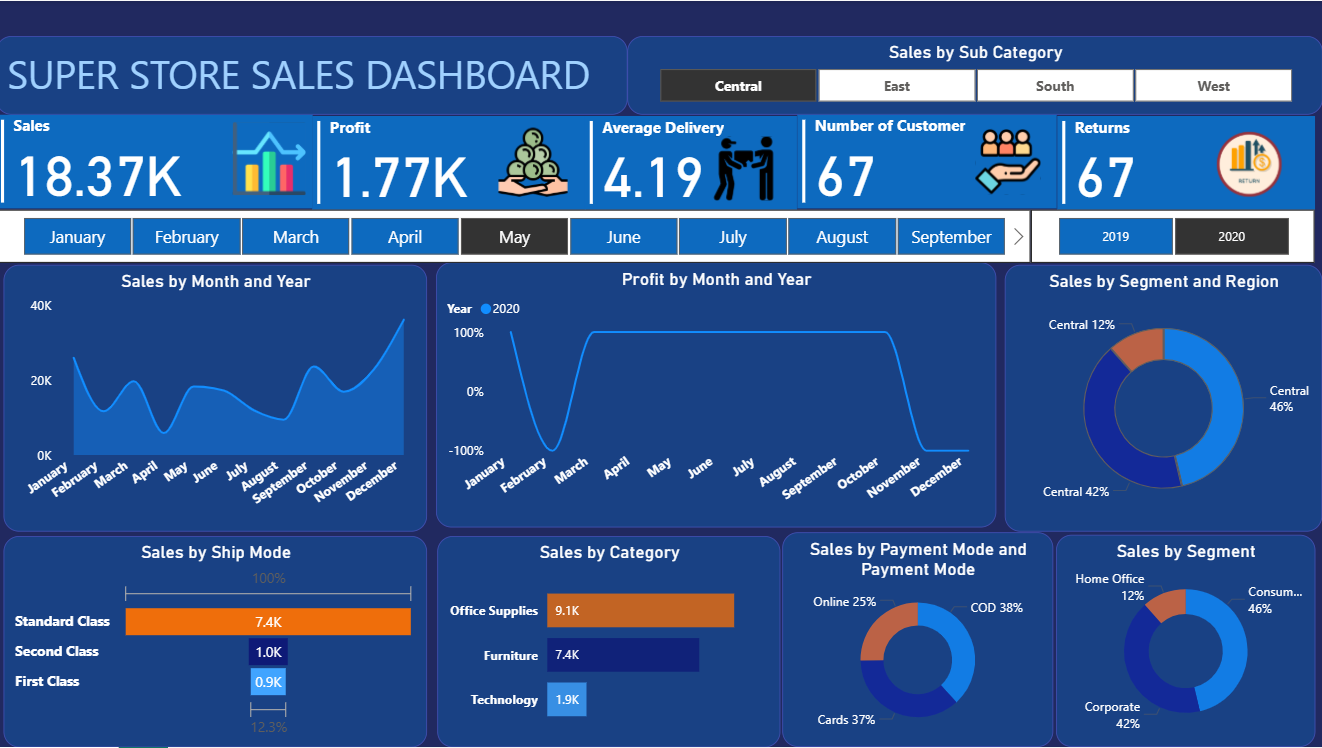

This screenshot's page, from the dashboard's own definition file:
{"tool":"powerbi","page":{"name":"Sales Dashboards","canvas":[1280,720],"ordinal":0},"visuals":[{"type":"clusteredBarChart","title":"Sales by Category","fields":{"Category":["Sheet1.Category"],"Y":["Sum(Sheet1.Sales)"]},"box":[425.3,516,331.6,203.7],"z":0},{"type":"slicer","title":"Sales by Sub Category","fields":{"Values":["Sheet1.Region"]},"box":[608.8,33.8,671.2,76.2],"z":1000},{"type":"funnel","title":"Sales by Ship Mode","fields":{"Category":["Sheet1.Ship Mode","Sheet1.Sub-Category"],"Y":["Sum(Sales Dashboards1.Sales)"]},"box":[7.4,516,408.9,203.7],"z":2000},{"type":"stackedAreaChart","title":" Sales by Month and Year","fields":{"Category":["Sales Dashboards1.Order Date.Variation.Date Hierarchy.Month","Sales Dashboards1.Order Date.Variation.Date Hierarchy.Year"],"Y":["Sum(Sales Dashboards1.Sales)"]},"box":[7.5,255,408.8,257.5],"z":3000},{"type":"donutChart","title":"Sales by Segment","fields":{"Category":["Sheet1.Segment"],"Y":["Sum(Sheet1.Sales)"]},"box":[1022.5,515,250,205],"z":4000},{"type":"donutChart","title":"Sales by Segment and Region","fields":{"Category":["Sheet1.Segment"],"Y":["Sum(Sheet1.Sales)"],"Series":["Sheet1.Region"]},"box":[973.8,255,306.2,257.5],"z":5000},{"type":"donutChart","title":"Sales by Payment Mode and Payment Mode","fields":{"Category":["Sheet1.Payment Mode","Sheet1.Segment"],"Y":["Sum(Sheet1.Sales)"],"Series":["Sheet1.Payment Mode"]},"box":[758.8,512.5,261.2,207.5],"z":6000},{"type":"textbox","box":[0,33.8,609.3,76],"z":7000},{"type":"cardVisual","fields":{"Data":["Sum(Sheet1.Sales)"]},"box":[0,109.8,305.2,90.5],"z":8000},{"type":"cardVisual","fields":{"Data":["Sum(Sheet1.Profit)"]},"box":[305,111.2,263.8,90],"z":9000},{"type":"cardVisual","fields":{"Data":["CountNonNull(Sheet1.Customer ID)"]},"box":[773.8,110,250,90],"z":10000},{"type":"cardVisual","fields":{"Data":["Avg(Sheet1.AVERAGE DELIVERY)"]},"box":[568.8,111.2,205,90],"z":11000},{"type":"cardVisual","fields":{"Data":["CountNonNull(Sheet1.Returns)"]},"box":[1023.8,111.2,248.8,90],"z":12000},{"type":"actionButton","box":[225,110,78.8,85],"z":13000},{"type":"actionButton","box":[478.8,115,78.8,82.5],"z":14000},{"type":"actionButton","box":[941.2,120,77.5,71.2],"z":15000},{"type":"actionButton","box":[686.2,126.2,73.8,70],"z":16000},{"type":"actionButton","box":[1171.2,120,101.2,76.2],"z":17000},{"type":"hundredPercentStackedAreaChart","title":"  Profit by Month and Year","fields":{"Series":["Sales Dashboards1.Order Date.Variation.Date Hierarchy.Year"],"Category":["Sales Dashboards1.Order Date.Variation.Date Hierarchy.Month"],"Y":["Sum(Sales Dashboards1.Profit)"]},"box":[424.7,252.1,540.5,255.8],"z":18000},{"type":"slicer","fields":{"Values":["Sales Dashboards1.Order Date.Variation.Date Hierarchy.Month"]},"box":[0,201.2,998.8,51.2],"z":19000},{"type":"slicer","fields":{"Values":["Sales Dashboards1.Order Date.Variation.Date Hierarchy.Year"]},"box":[998.8,201.2,273.8,51.2],"z":20000}]}

Visuals, with their boxes in screenshot pixels (x1, y1, x2, y2), scaled from the page's 1280x720 canvas onto the 1322x748 screenshot:
"Sales by Category" clusteredBarChart: select_region(439, 536, 782, 747)
"Sales by Sub Category" slicer: select_region(629, 35, 1321, 114)
"Sales by Ship Mode" funnel: select_region(8, 536, 430, 747)
" Sales by Month and Year" stackedAreaChart: select_region(8, 265, 430, 532)
"Sales by Segment" donutChart: select_region(1056, 535, 1314, 747)
"Sales by Segment and Region" donutChart: select_region(1006, 265, 1321, 532)
"Sales by Payment Mode and Payment Mode" donutChart: select_region(784, 532, 1053, 747)
textbox: select_region(0, 35, 629, 114)
cardVisual - Sum(Sheet1.Sales): select_region(0, 114, 315, 208)
cardVisual - Sum(Sheet1.Profit): select_region(315, 116, 587, 209)
cardVisual - CountNonNull(Sheet1.Customer ID): select_region(799, 114, 1057, 208)
cardVisual - Avg(Sheet1.AVERAGE DELIVERY): select_region(587, 116, 799, 209)
cardVisual - CountNonNull(Sheet1.Returns): select_region(1057, 116, 1314, 209)
actionButton: select_region(232, 114, 314, 203)
actionButton: select_region(495, 119, 576, 205)
actionButton: select_region(972, 125, 1052, 199)
actionButton: select_region(709, 131, 785, 204)
actionButton: select_region(1210, 125, 1314, 204)
"  Profit by Month and Year" hundredPercentStackedAreaChart: select_region(439, 262, 997, 528)
slicer - Sales Dashboards1.Order Date.Variation.Date Hierarchy.Month: select_region(0, 209, 1032, 262)
slicer - Sales Dashboards1.Order Date.Variation.Date Hierarchy.Year: select_region(1032, 209, 1314, 262)
